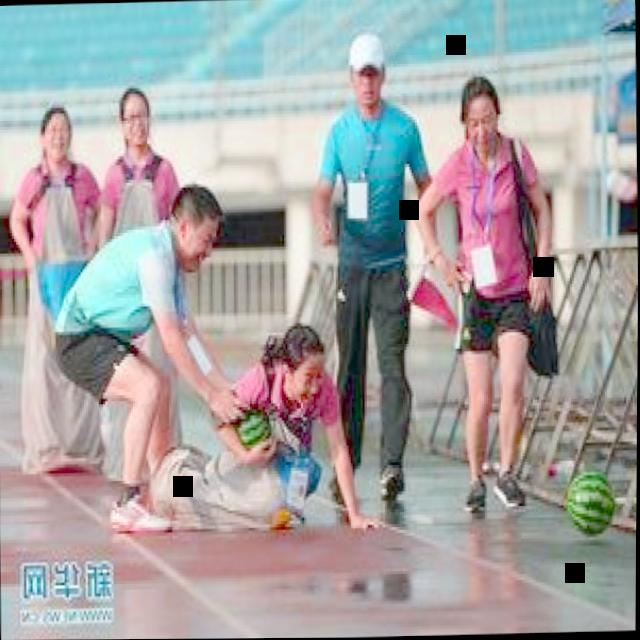Fall-Detected: (135, 307, 385, 536)
